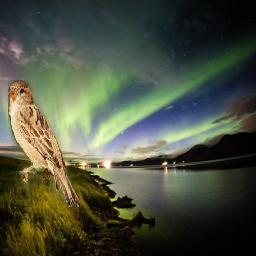Sparrow: (8, 81, 80, 208)
